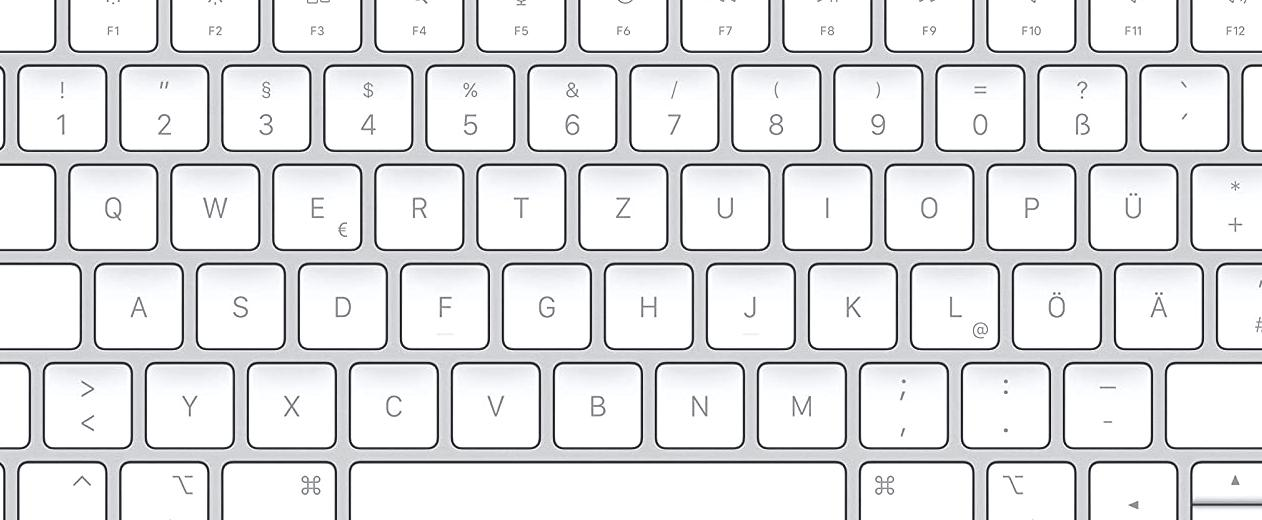0: (932, 59, 1026, 151)
1: (13, 59, 106, 149)
2: (114, 59, 209, 151)
3: (217, 59, 311, 151)
4: (321, 58, 414, 150)
5: (421, 58, 515, 151)
6: (523, 59, 618, 151)
7: (625, 59, 719, 151)
8: (726, 59, 821, 151)
9: (829, 59, 924, 151)
a: (90, 257, 183, 347)
accent: (1136, 58, 1228, 148)
ae: (1109, 256, 1203, 348)
alt-left: (115, 457, 211, 520)
altgr-right: (980, 456, 1077, 520)
b: (548, 355, 644, 447)
c: (344, 356, 438, 448)
caret: (1, 58, 47, 149)
comma: (853, 356, 948, 446)
d: (294, 257, 388, 349)
e: (267, 157, 362, 249)
f: (396, 257, 489, 348)
g: (498, 257, 590, 348)
h: (600, 257, 693, 348)
hash: (1211, 257, 1262, 347)
i: (777, 157, 871, 248)
j: (701, 257, 794, 348)
k: (804, 256, 897, 349)
keyboard: (1, 1, 1262, 520)
l: (907, 257, 1000, 349)
less: (38, 356, 132, 447)
m: (751, 355, 846, 447)
minus: (1058, 356, 1151, 446)
n: (650, 356, 744, 447)
o: (879, 158, 973, 249)
oe: (1007, 257, 1101, 349)
p: (982, 157, 1075, 248)
plus: (1186, 157, 1262, 247)
point: (956, 356, 1051, 446)
q: (63, 157, 158, 249)
r: (371, 157, 463, 249)
s: (191, 257, 285, 348)
shift-left: (1, 355, 61, 447)
shift-lock: (1, 256, 86, 348)
shift-right: (1157, 354, 1262, 447)
space: (342, 455, 848, 520)
ss: (1033, 59, 1127, 151)
strg-left: (11, 456, 110, 520)
t: (473, 157, 564, 248)
tab: (1, 157, 73, 247)
u: (676, 157, 769, 250)
ue: (1083, 157, 1177, 249)
v: (446, 355, 541, 447)
w: (165, 157, 259, 248)
x: (243, 356, 337, 446)
y: (141, 356, 235, 447)
z: (574, 157, 668, 249)
